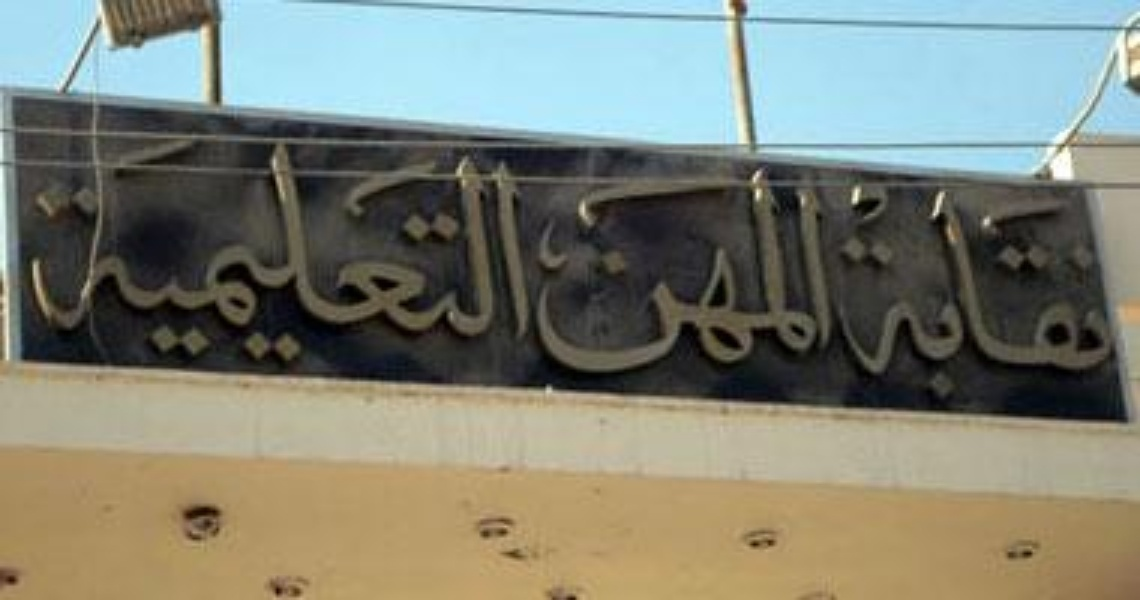text: (33, 121, 48, 376), (49, 121, 64, 376), (65, 121, 80, 376), (81, 121, 96, 376), (97, 121, 112, 376), (113, 121, 128, 376), (129, 121, 144, 376), (145, 121, 160, 376), (161, 121, 176, 376), (177, 121, 192, 376), (193, 121, 208, 376), (209, 121, 224, 376), (225, 121, 240, 376), (241, 121, 256, 376), (257, 121, 272, 376), (273, 121, 288, 376), (289, 121, 304, 376), (305, 121, 320, 376), (321, 121, 336, 376), (337, 121, 352, 376), (353, 121, 368, 376), (369, 121, 384, 376), (385, 121, 400, 376), (401, 121, 416, 376), (417, 121, 432, 376), (433, 121, 448, 376), (449, 121, 464, 376), (465, 121, 480, 376), (481, 121, 496, 376), (497, 121, 512, 376), (513, 121, 528, 376), (833, 163, 848, 414), (849, 163, 864, 414), (865, 163, 880, 414), (881, 163, 896, 414), (897, 163, 912, 414), (913, 163, 928, 414), (929, 163, 944, 414), (945, 163, 960, 414), (961, 163, 976, 414), (977, 163, 992, 414), (993, 163, 1008, 414), (1009, 163, 1024, 414), (1025, 163, 1040, 414), (1041, 163, 1056, 414), (1057, 163, 1072, 414), (1073, 163, 1088, 414), (1089, 163, 1104, 414), (1105, 163, 1120, 414), (545, 148, 560, 391), (561, 148, 576, 391), (577, 148, 592, 391), (593, 148, 608, 391), (609, 148, 624, 391), (625, 148, 640, 391), (641, 148, 656, 391), (657, 148, 672, 391), (673, 148, 688, 391), (689, 148, 704, 391), (705, 148, 720, 391), (721, 148, 736, 391), (737, 148, 752, 391), (753, 148, 768, 391), (769, 148, 784, 391), (785, 148, 800, 391), (801, 148, 816, 391), (817, 148, 832, 391), (1121, 163, 1132, 414), (25, 121, 32, 376), (529, 121, 535, 376), (826, 163, 832, 414), (538, 148, 544, 391), (833, 148, 835, 391)
